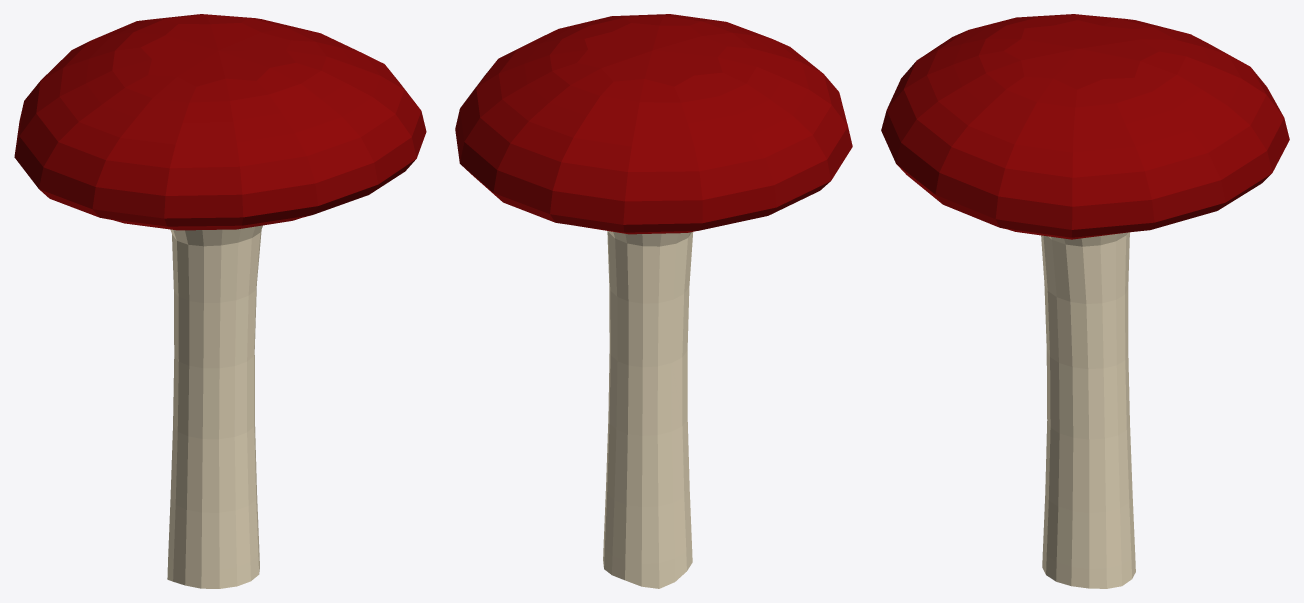
The model's file is Grzyb.FBX.
3 views of the same model, side by side, from view 1: azimuth 30°, elevation 25°; view 2: azimuth 150°, elevation 25°; view 3: azimuth 270°, elevation 25° (orthographic). The views are drawn at different scales.
Visible parts, largest first — view 1: mushroom 1 .001, Object001; view 2: mushroom 1 .001, Object001; view 3: mushroom 1 .001, Object001.
Part boxes in pixels (x1,y1,x2,y2): mushroom 1 .001: (14, 14, 426, 230); Object001: (167, 225, 262, 588); mushroom 1 .001: (455, 14, 852, 234); Object001: (603, 231, 693, 588); mushroom 1 .001: (881, 14, 1289, 239); Object001: (1041, 232, 1135, 588).
Size of the model in its own units: 4.84 by 6.79 by 4.74.
